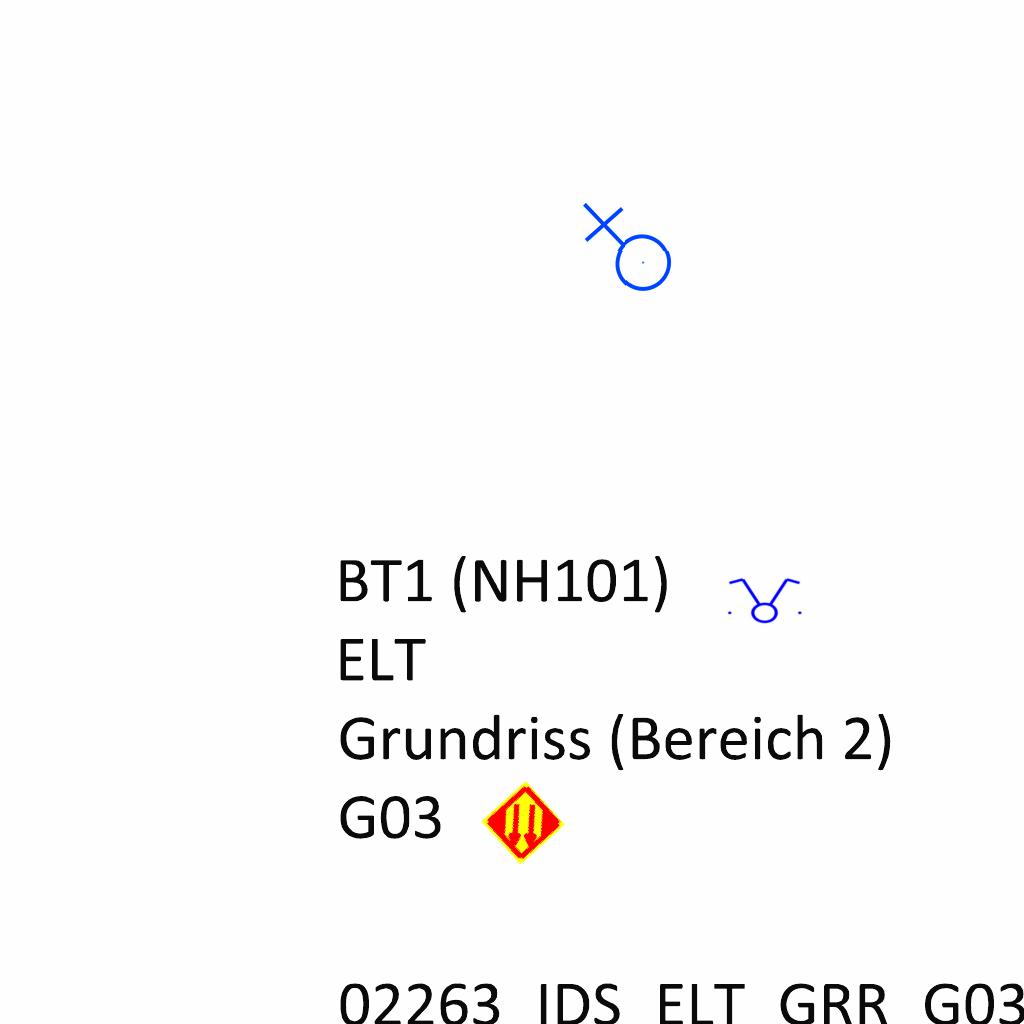ASR_Ansaugrauchmelder: (479, 779, 567, 867)
Elektroanschluss_allgemein_230V_Geraeteanschlussdose_230V: (577, 200, 674, 302)
Serienschalter: (722, 576, 806, 624)
